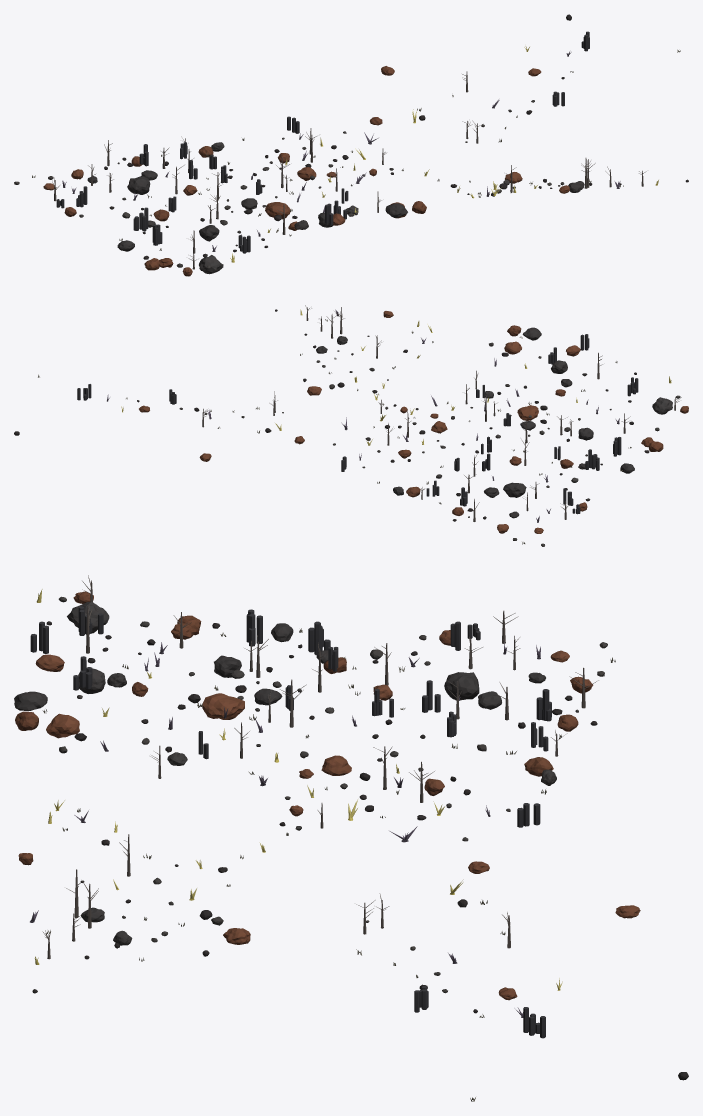
The model's file is ash_land_scatter_c21_27.glb.
3 views of the same model, one above another, from view 1: azimuth 30°, elevation 25°; view 2: azimuth 150°, elevation 25°; view 3: azimuth 270°, elevation 25° (orthographic). The views are drawn at different scales.
Visible parts, largest first — view 1: ash_land_scatter_c21_27; view 2: ash_land_scatter_c21_27; view 3: ash_land_scatter_c21_27.
Boxes of the visible parts, x1,y1,x2,y2 form: ash_land_scatter_c21_27: [14, 14, 688, 276]; ash_land_scatter_c21_27: [14, 305, 688, 546]; ash_land_scatter_c21_27: [14, 575, 688, 1101].
Size of the model in its own units: 185 by 23.63 by 111.
